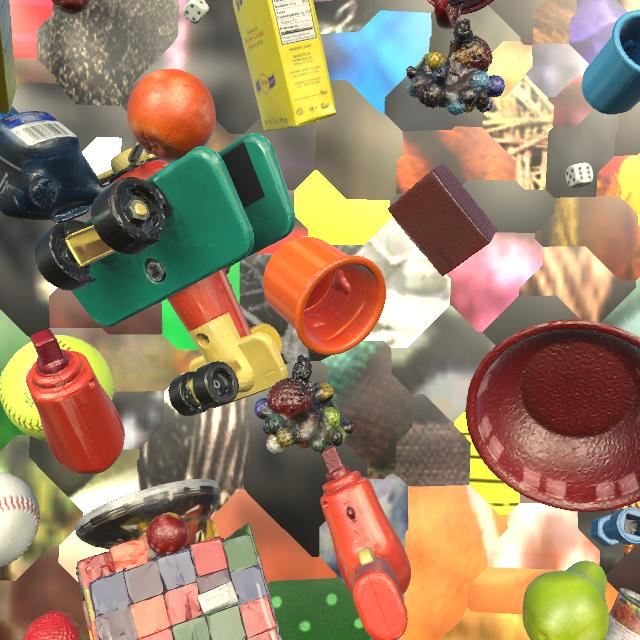ycb_004_sugar_box: (232, 0, 337, 131), (0, 0, 19, 114)
ycb_005_tomato_soup_can: (605, 588, 640, 640)
ycb_012_strawberry: (23, 610, 82, 640)
ycb_016_pear: (522, 561, 609, 640)
ycb_017_orange: (127, 69, 216, 161)
